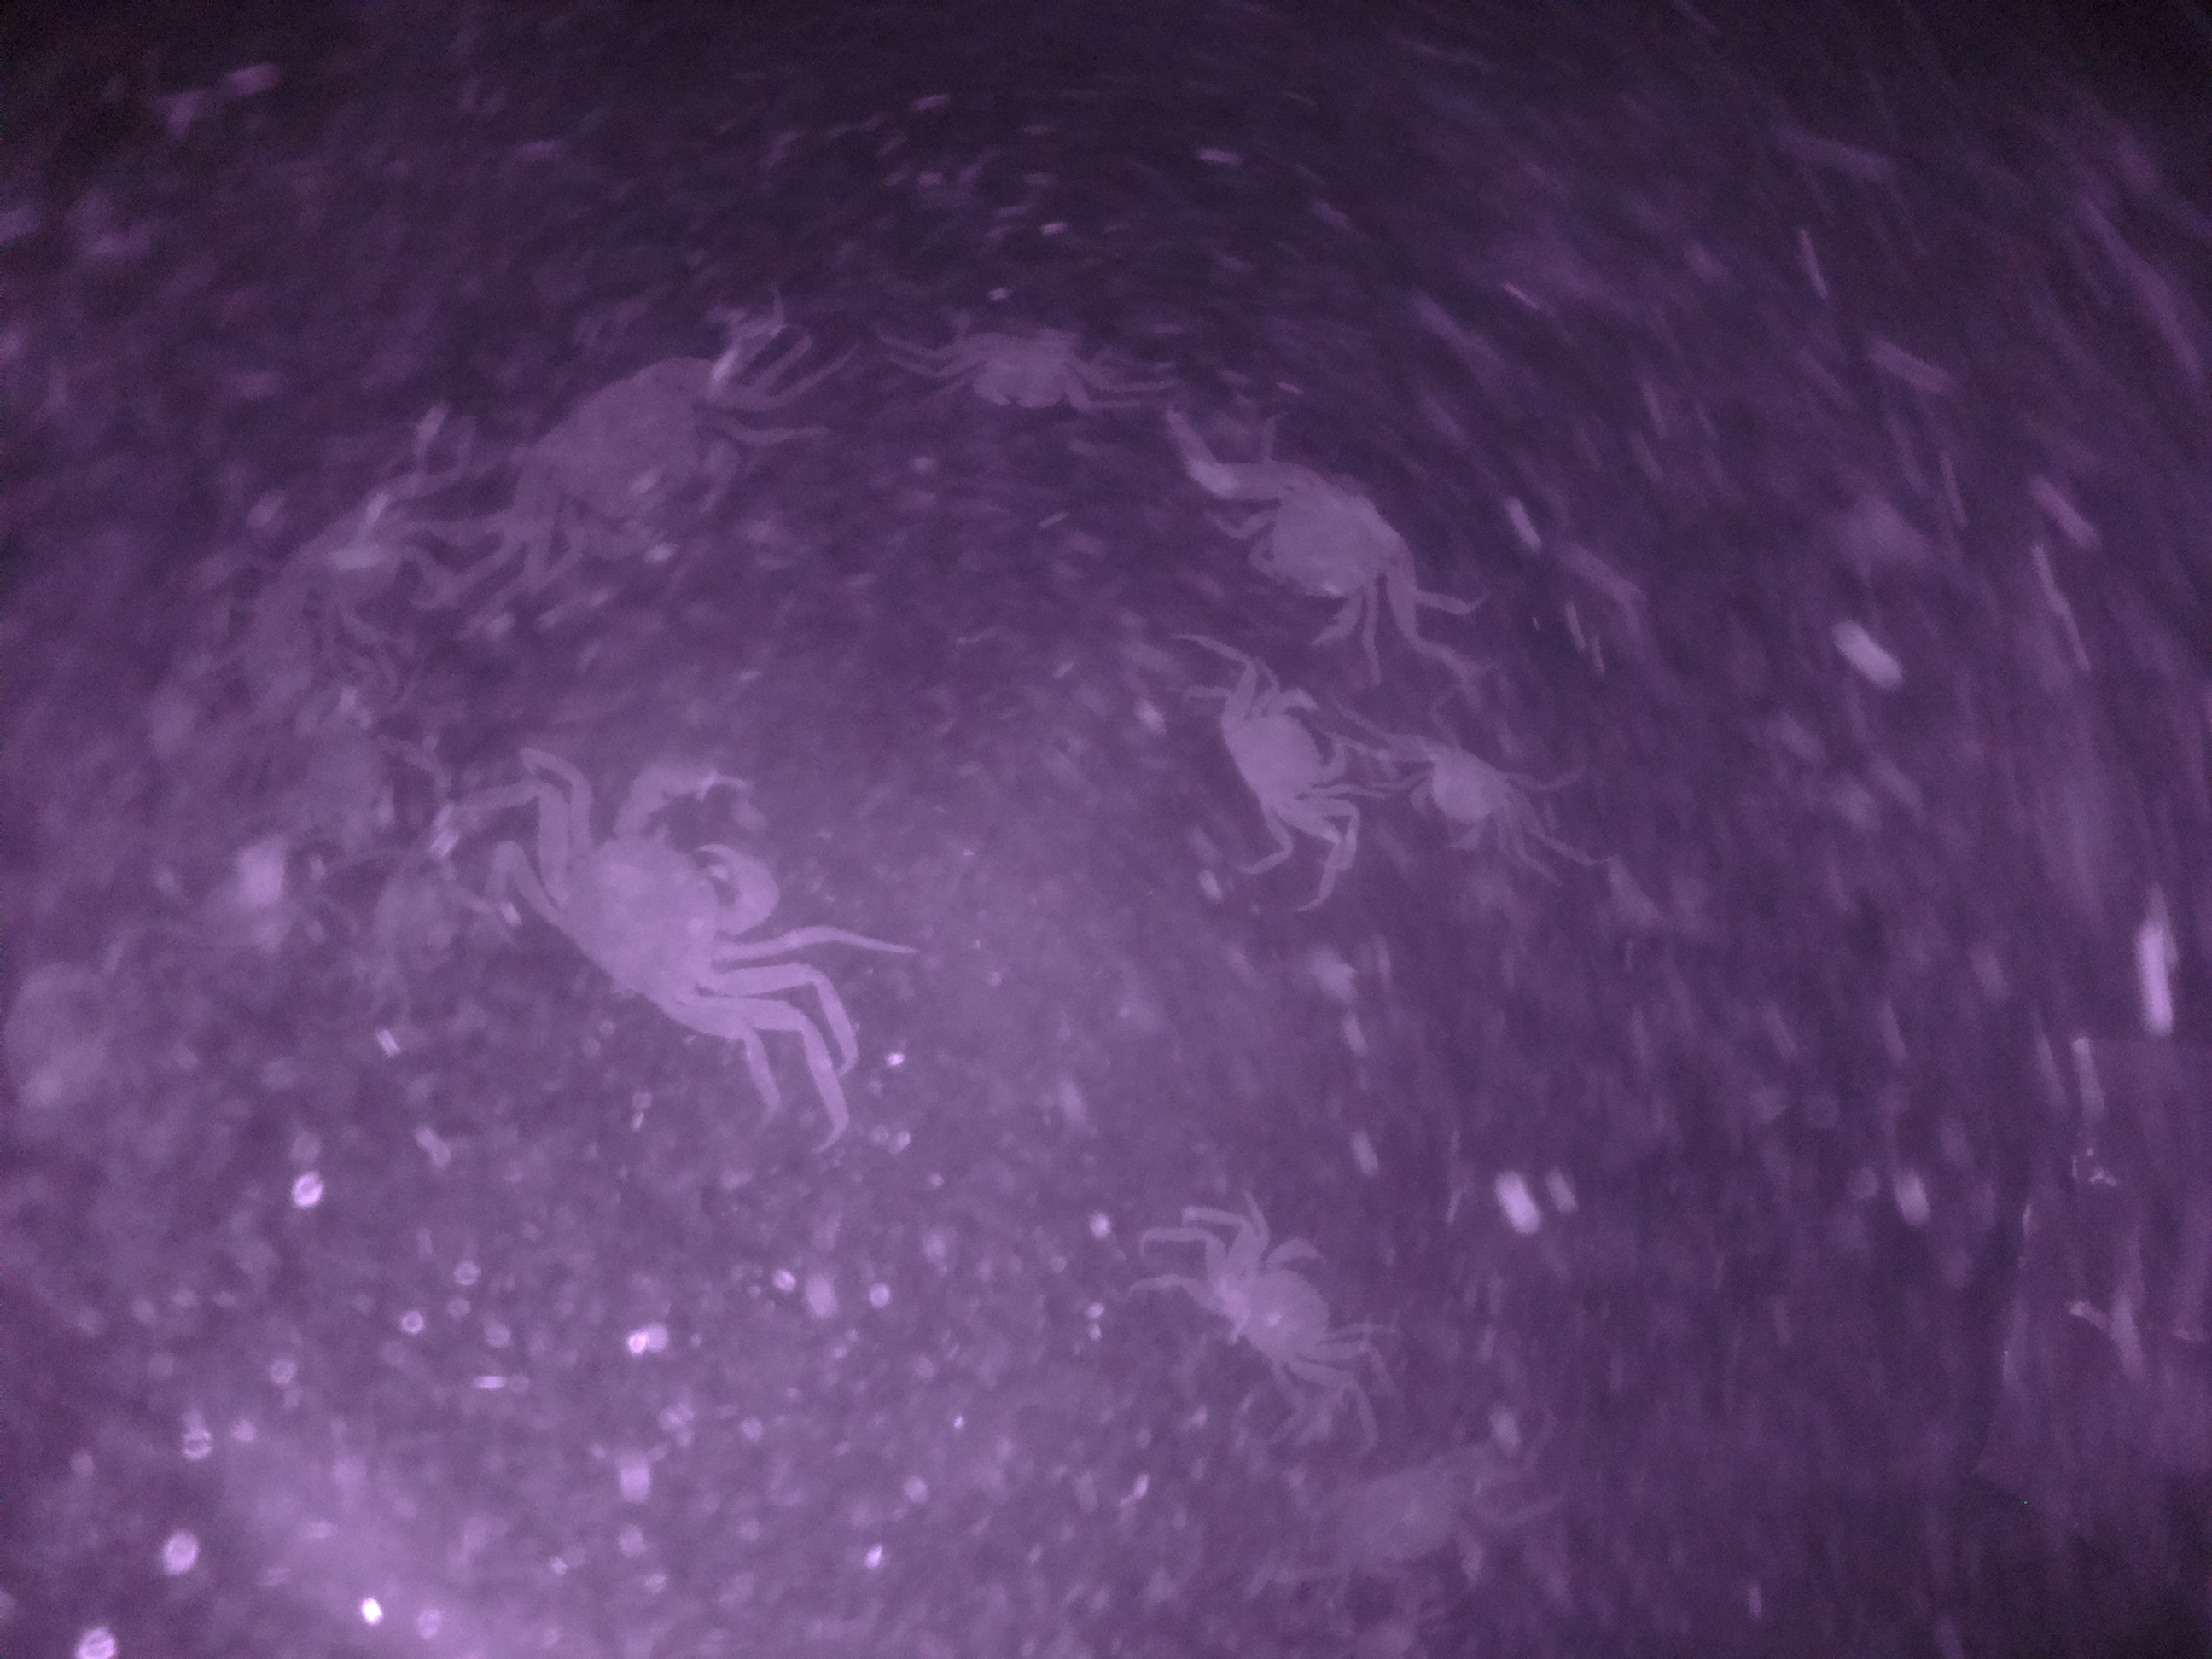Crab: (509, 730, 792, 1056), (1231, 448, 1420, 638), (1209, 1209, 1355, 1394), (1200, 676, 1357, 819), (1397, 721, 1540, 854), (941, 314, 1092, 423)
